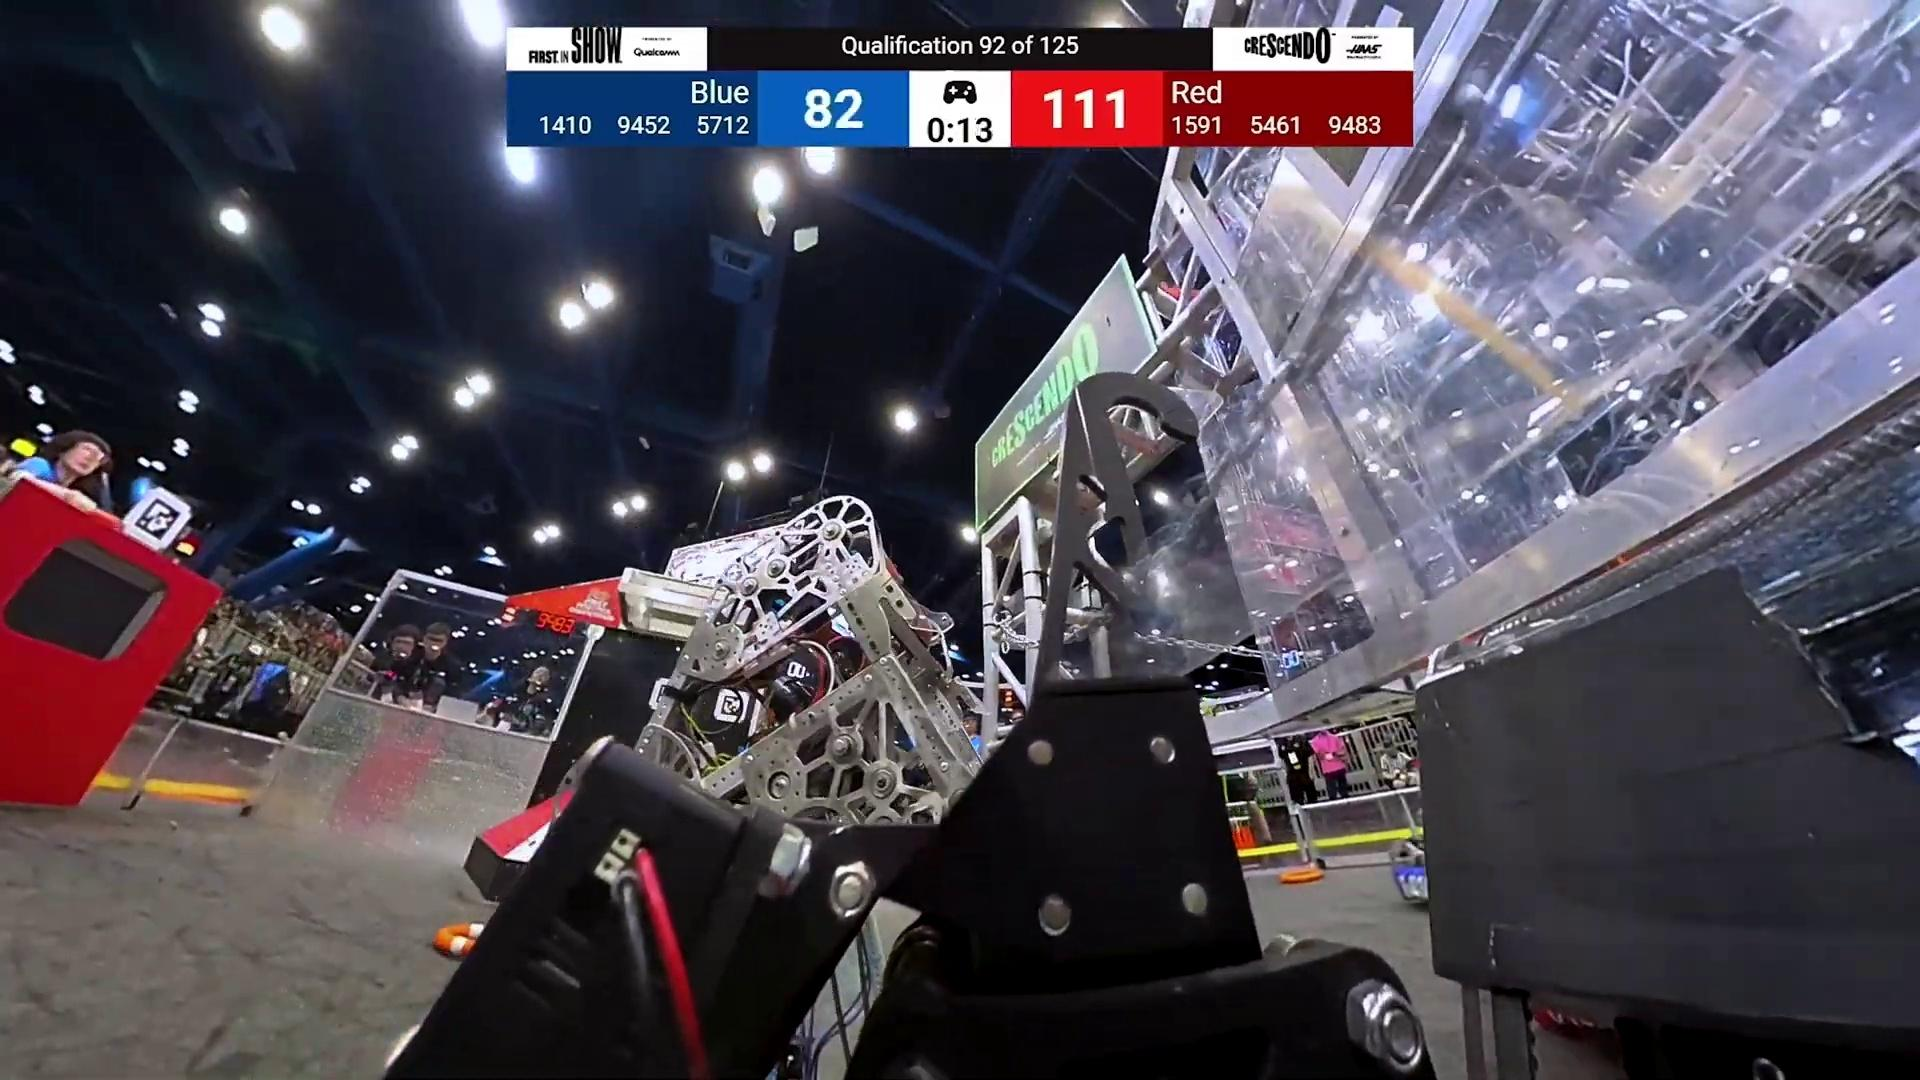robot: (1390, 836, 1429, 910)
